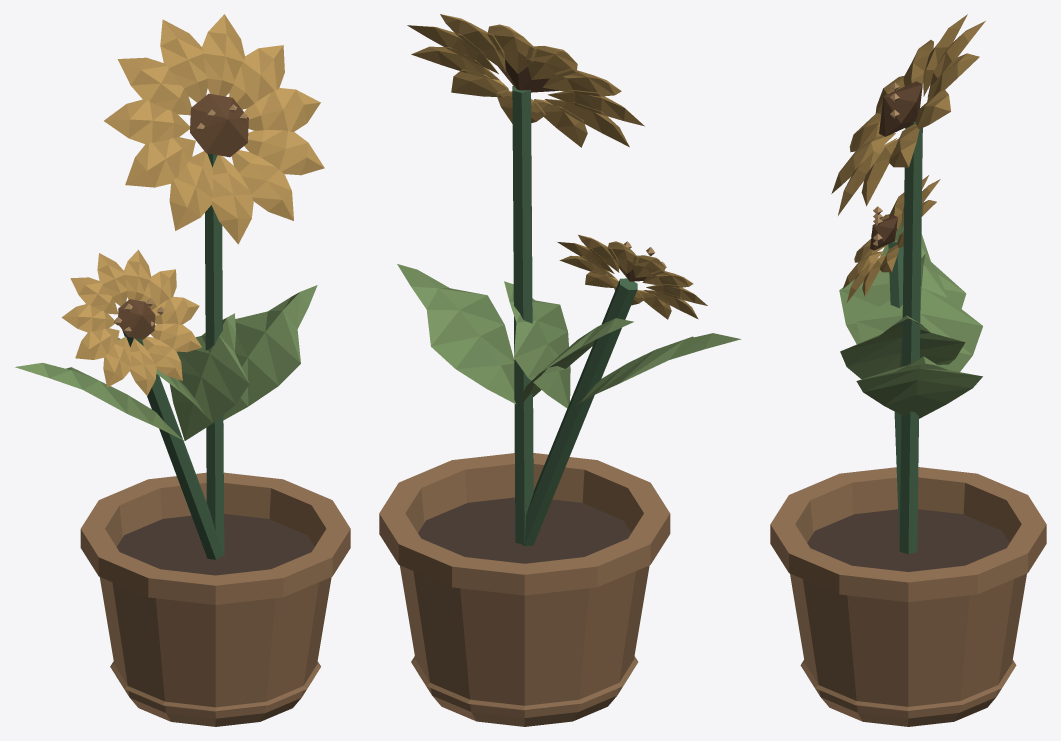
Rendered from decor_pot_sunflower.glb.
The picture shows the model from 3 angles, left to right: view 1: azimuth 30°, elevation 25°; view 2: azimuth 150°, elevation 25°; view 3: azimuth 270°, elevation 25°; orthographic projection. The views are drawn at different scales.
Visible parts, largest first — view 1: geometry; view 2: geometry; view 3: geometry.
Part boxes in pixels (bbox=[...]): geometry: bbox=[15, 14, 350, 726]; geometry: bbox=[379, 14, 741, 726]; geometry: bbox=[770, 14, 1046, 726].
Size of the model in its own units: 0.6638 by 1.29 by 0.4876.
